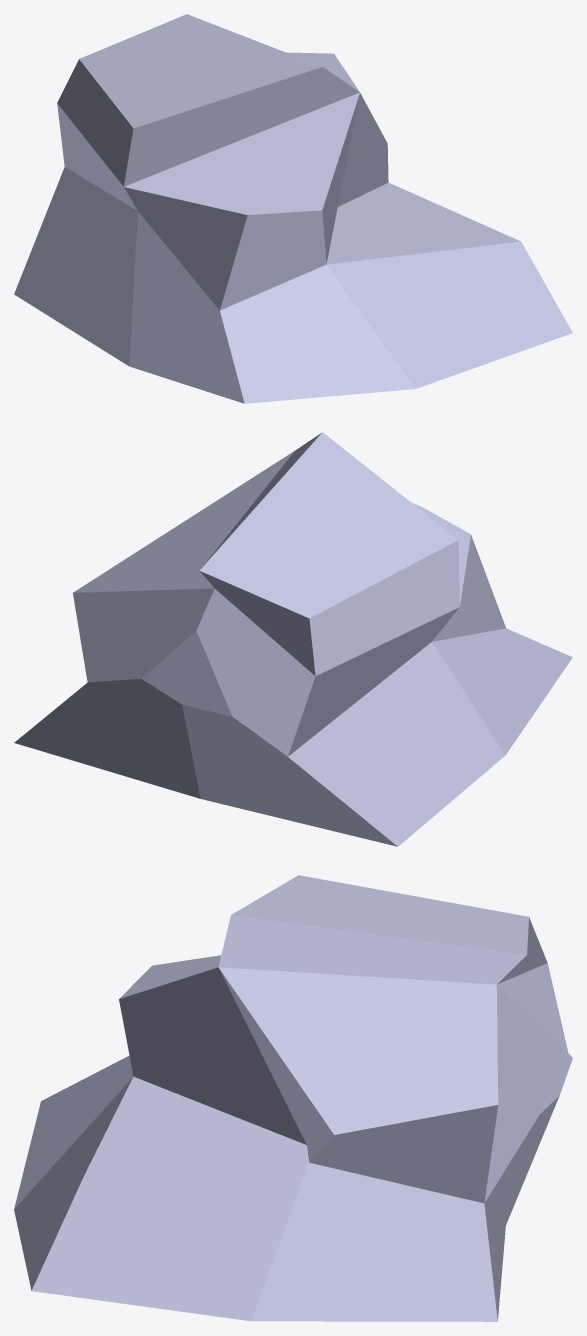
The model's file is Stone2.fbx.
3 renders of one model, top to bottom at view 1: azimuth 30°, elevation 25°; view 2: azimuth 150°, elevation 25°; view 3: azimuth 270°, elevation 25°, orthographic. The views are drawn at different scales.
Visible parts, largest first — view 1: Cube.001; view 2: Cube.001; view 3: Cube.001.
Boxes of the visible parts, box(x1,y1,x2,y2) form: Cube.001: box(14, 14, 572, 403); Cube.001: box(14, 432, 572, 846); Cube.001: box(14, 875, 572, 1321).
Size of the model in its own units: 203 by 139 by 226.
